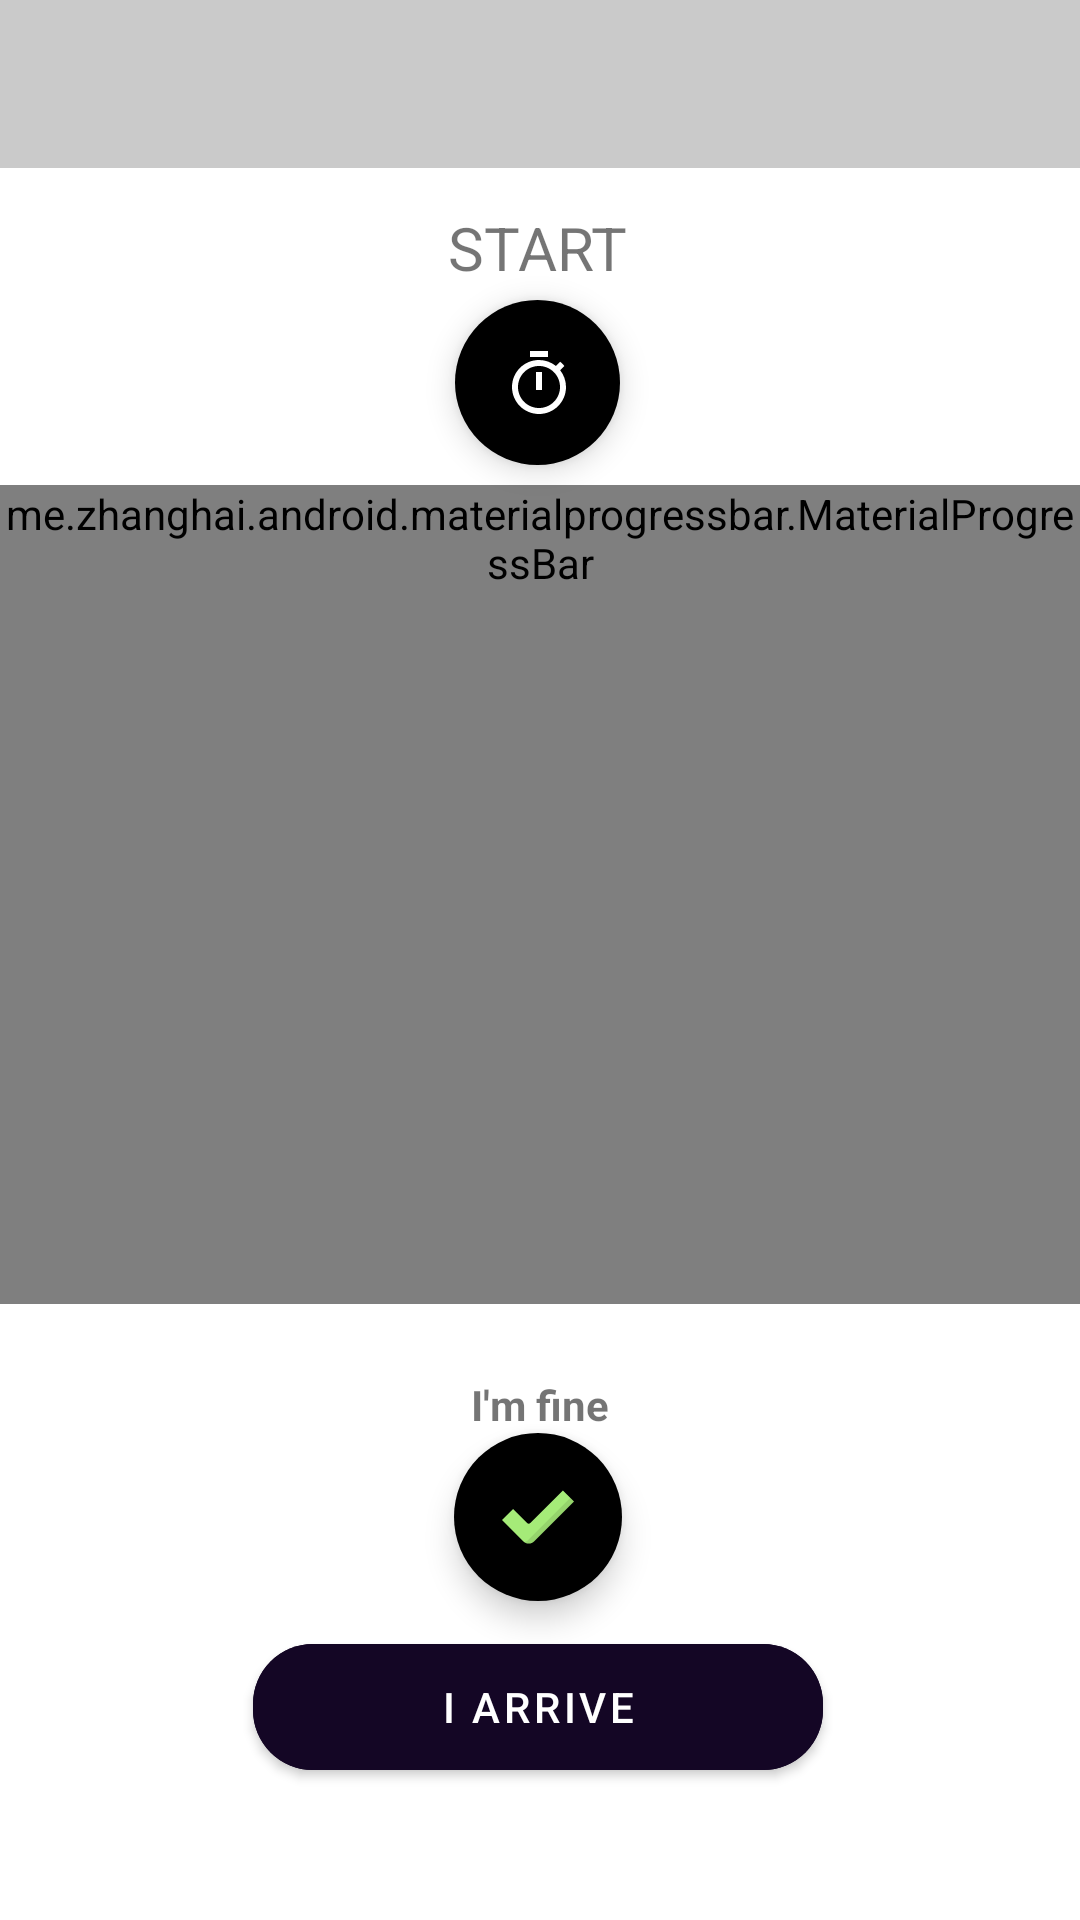

Point at icon controls on the screen. Image size 1080×1920, points as (x,y).
check: (538,1517)
timer: (537,382)
